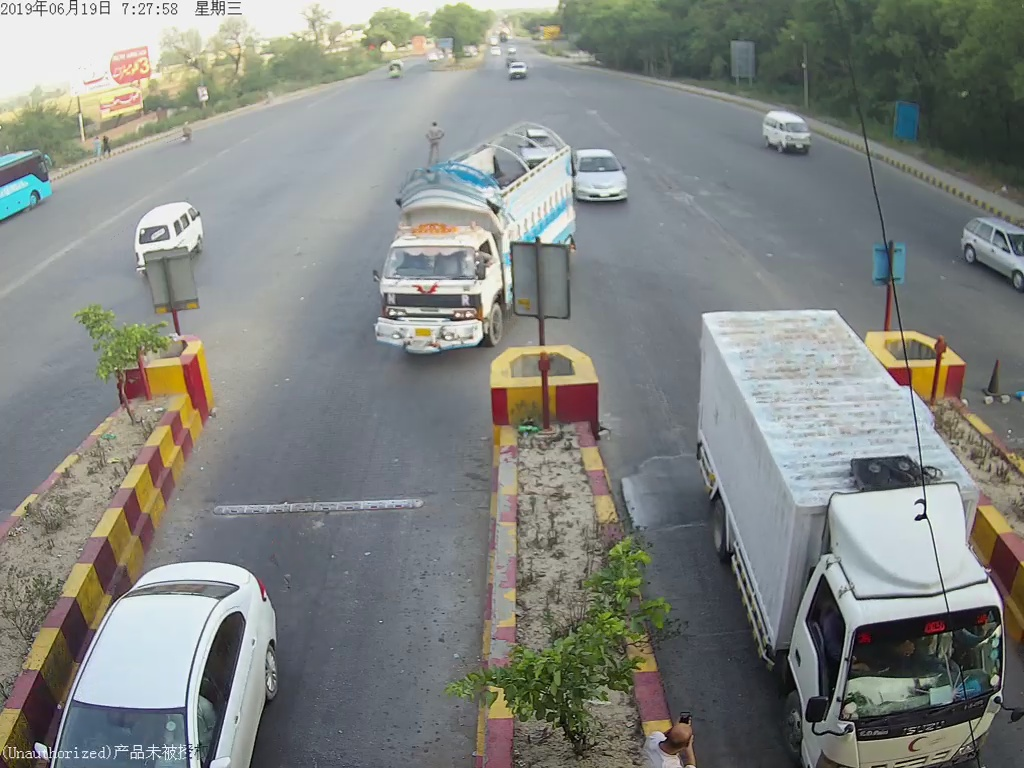Cat-1: (572, 150, 627, 203)
Cat-4: (694, 308, 1005, 764), (362, 119, 575, 355)
